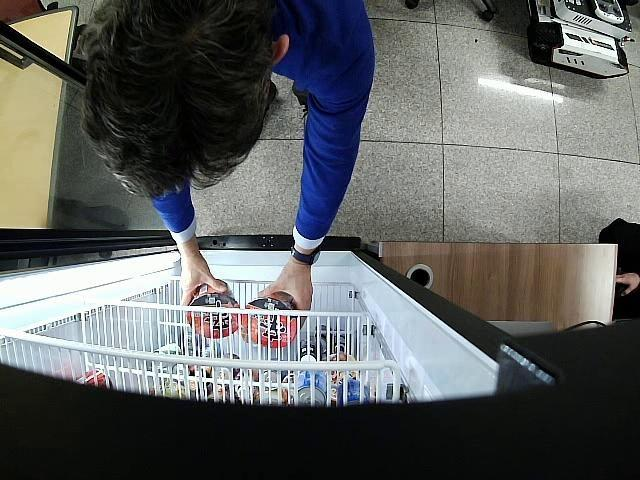01_ShinRamen_L: (242, 292, 306, 348), (186, 278, 242, 339)
